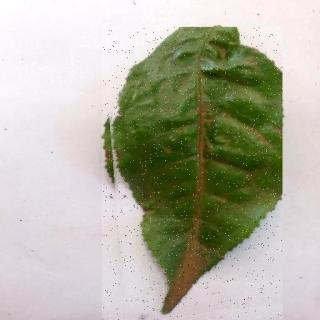Algal Leaf: (103, 28, 283, 320)
